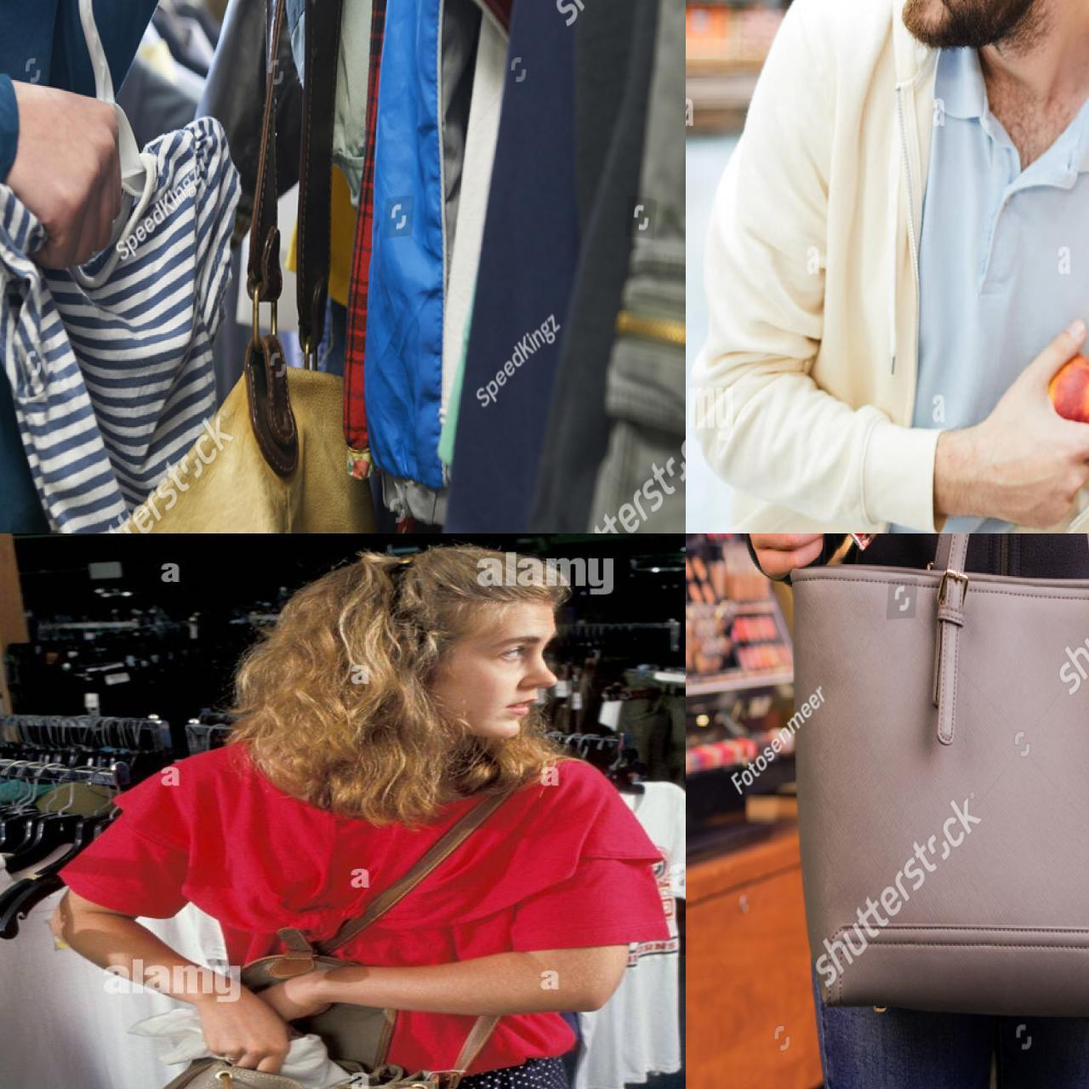shoplifting: (0, 51, 479, 535), (0, 842, 662, 1089)
